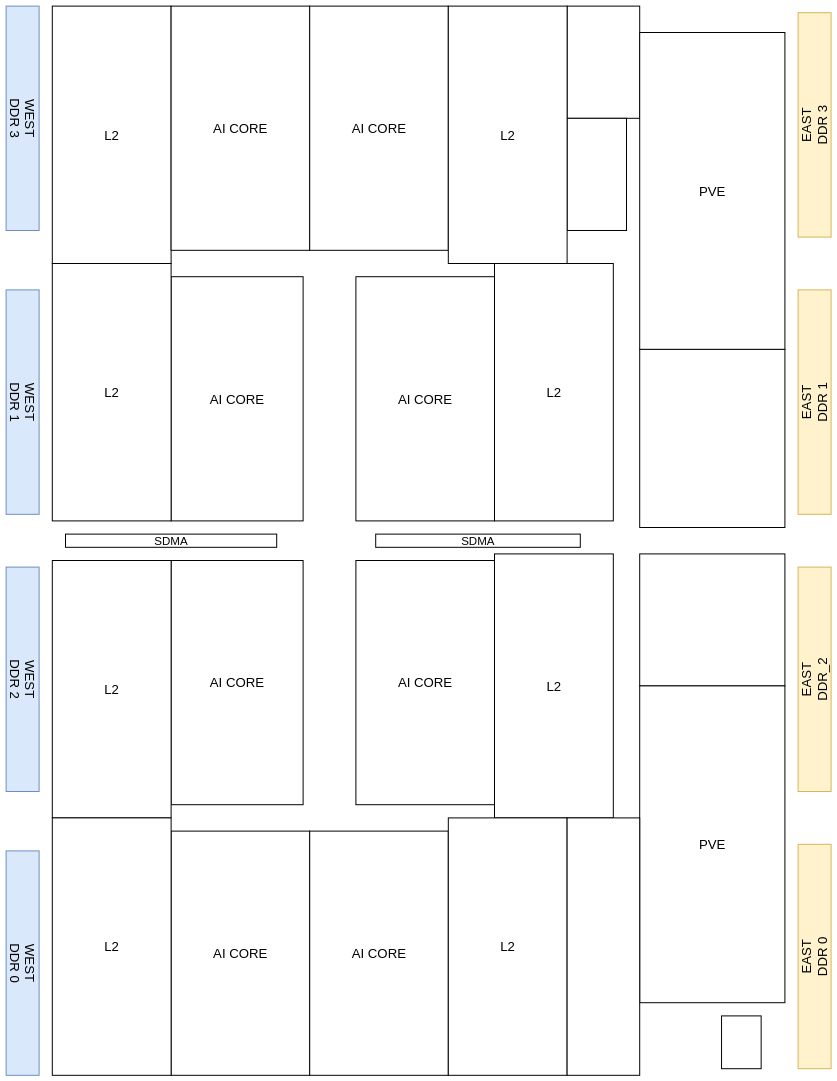
Some shapes in this 837 by 1081 pixel diagram are drawn without their labels. The centre of each missing label's shape, as x and y in pixels:
APU: (x=712, y=438)
DEC: (x=712, y=619)
PCIE: (x=603, y=62)
SOC-IO: (x=741, y=1042)
SOC-MGMT: (x=596, y=174)
SYS-SPM: (x=603, y=946)
